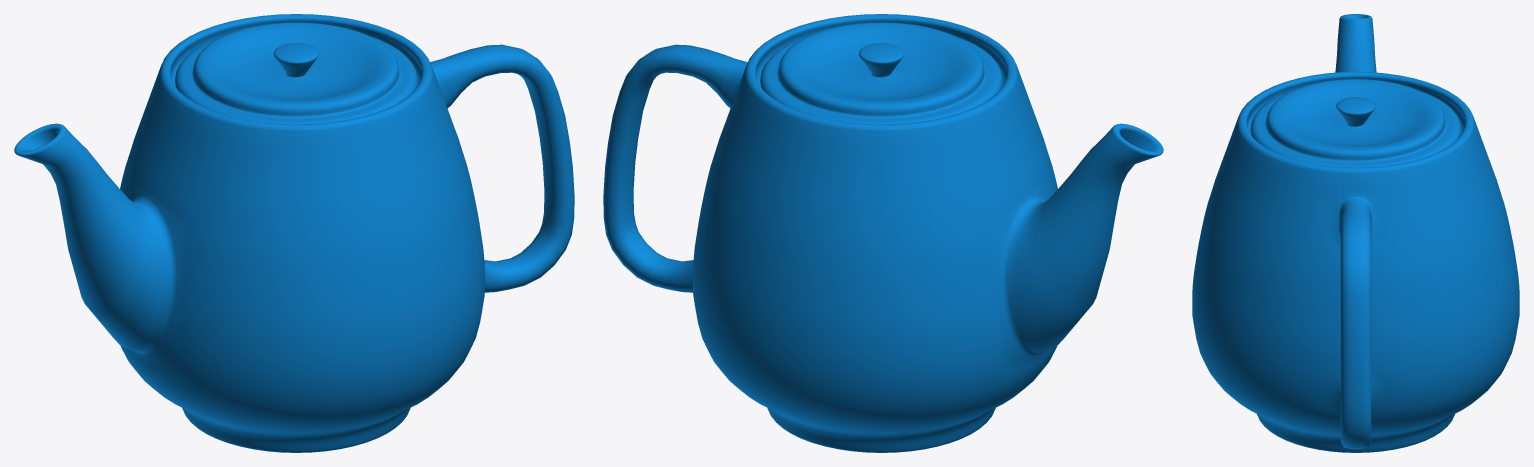
File: Teapot.obj
The picture shows the model from 3 angles, left to right: view 1: azimuth 30°, elevation 25°; view 2: azimuth 150°, elevation 25°; view 3: azimuth 270°, elevation 25°; orthographic projection. The views are drawn at different scales.
Visible parts, largest first — view 1: Teapot:Tea_PotPot, Teapot:LidTea_Pot; view 2: Teapot:Tea_PotPot, Teapot:LidTea_Pot; view 3: Teapot:Tea_PotPot, Teapot:LidTea_Pot.
Boxes of the visible parts, <box> form: Teapot:Tea_PotPot: <box>14,14,574,452</box>; Teapot:LidTea_Pot: <box>175,22,417,124</box>; Teapot:Tea_PotPot: <box>603,14,1163,452</box>; Teapot:LidTea_Pot: <box>760,22,1002,124</box>; Teapot:Tea_PotPot: <box>1192,14,1519,452</box>; Teapot:LidTea_Pot: <box>1250,79,1461,167</box>.
Size of the model in its own units: 1.19 by 0.7333 by 0.7039.
Materials: 1 (1 with a texture image).
